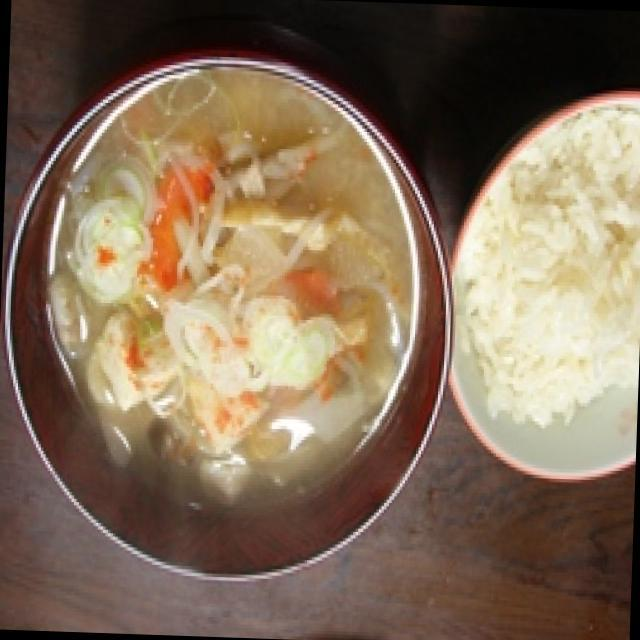Rice: (462, 97, 640, 431)
